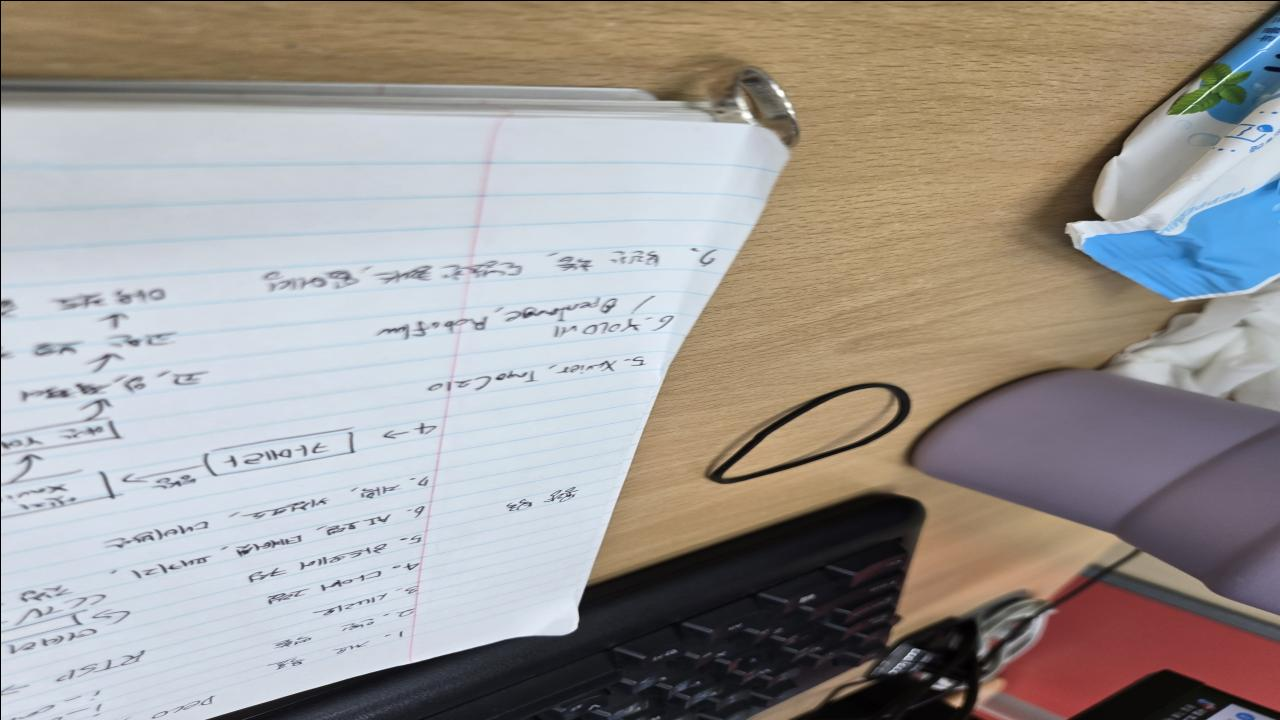ring: (700, 66, 798, 150)
